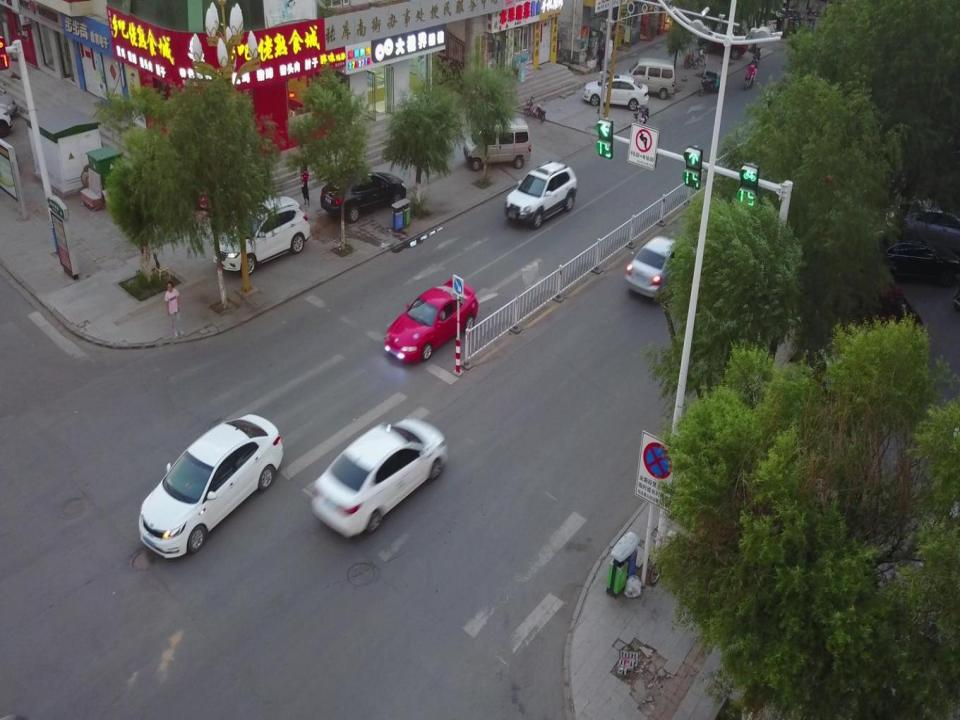car: (137, 410, 283, 562), (311, 417, 446, 539), (212, 194, 310, 279), (384, 279, 479, 363), (625, 234, 701, 302), (503, 161, 578, 229), (320, 170, 406, 221), (582, 74, 650, 110)
van: (464, 117, 533, 174), (619, 56, 675, 100)
